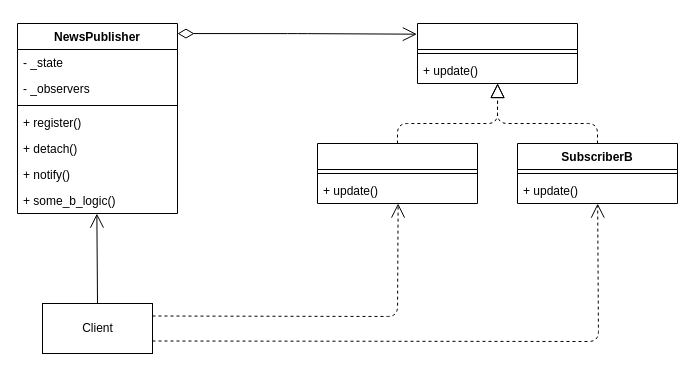
Image size: 695x373. Some labels were removed from this diagram. The shapes that lost their labels are listed below. From the top down, each one's box as (x1, y1, x2, y2) in pixels, then its label:
(416, 22, 578, 84): Observer
(316, 142, 478, 204): SubscriberA
